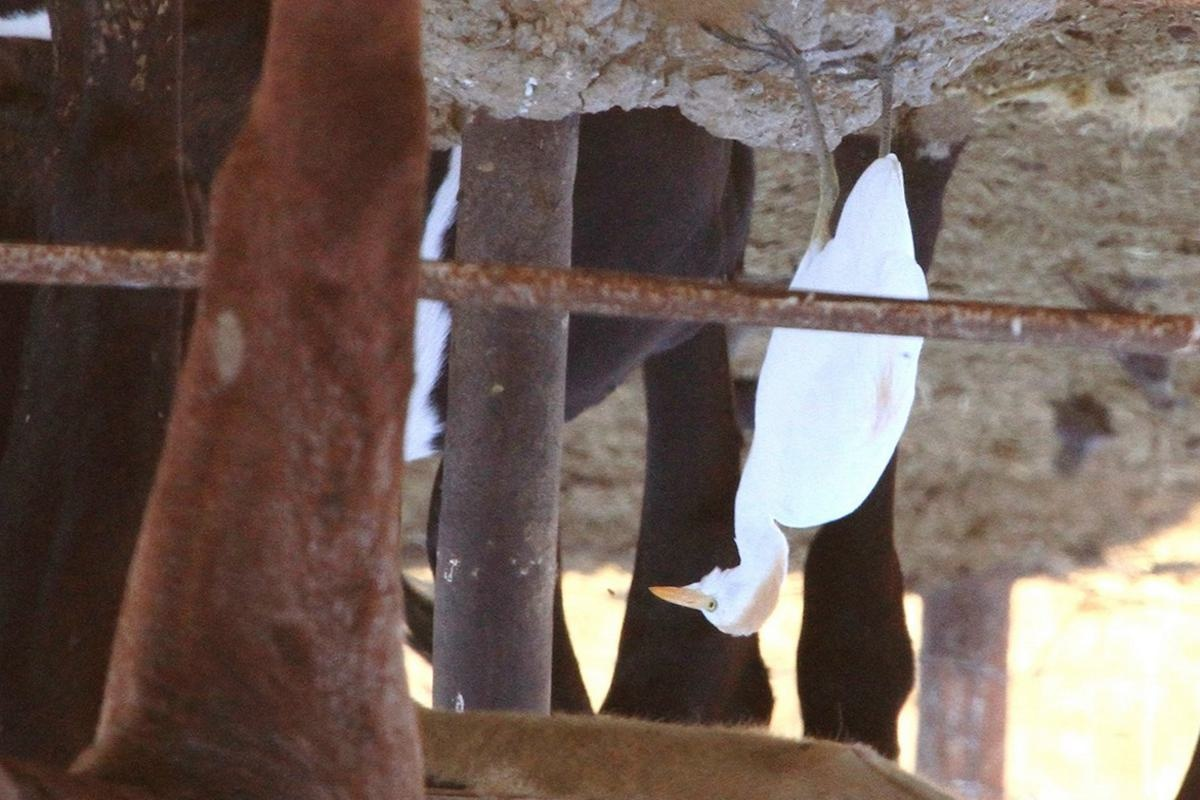egret: (644, 90, 937, 652)
